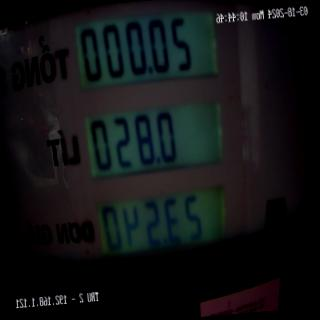screen: (68, 0, 241, 292)
